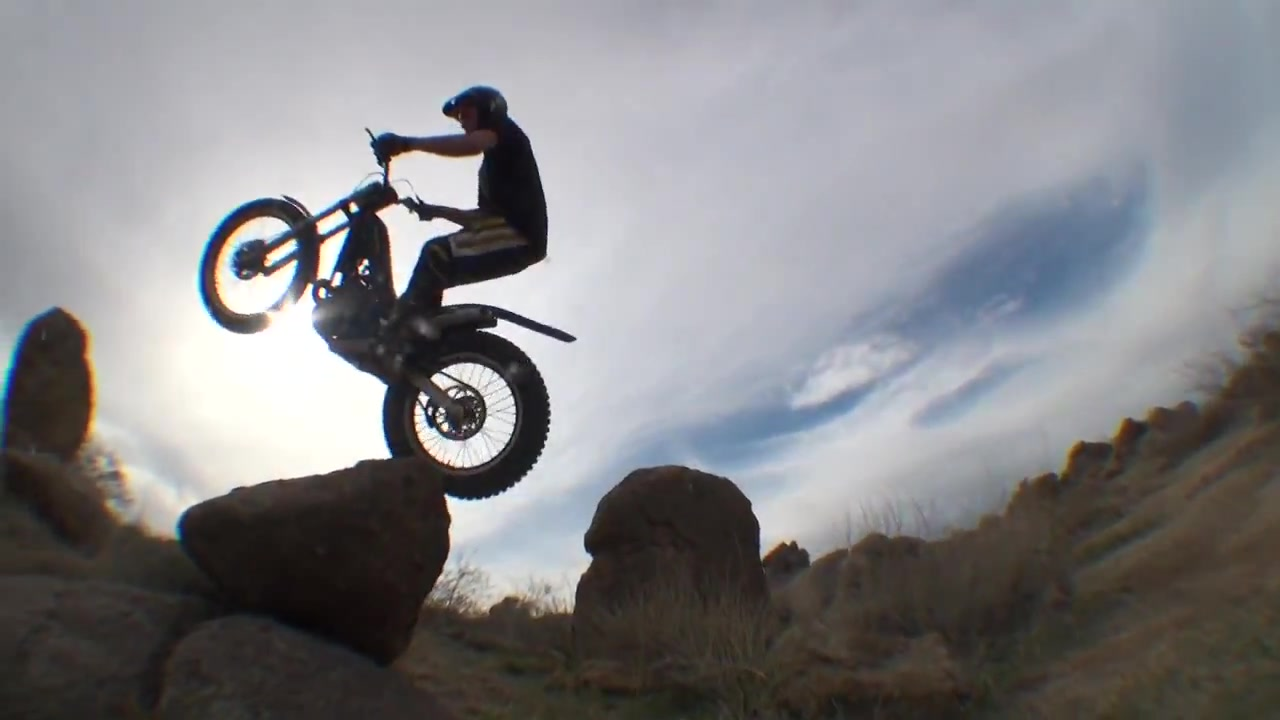motorbike: (198, 129, 581, 497)
